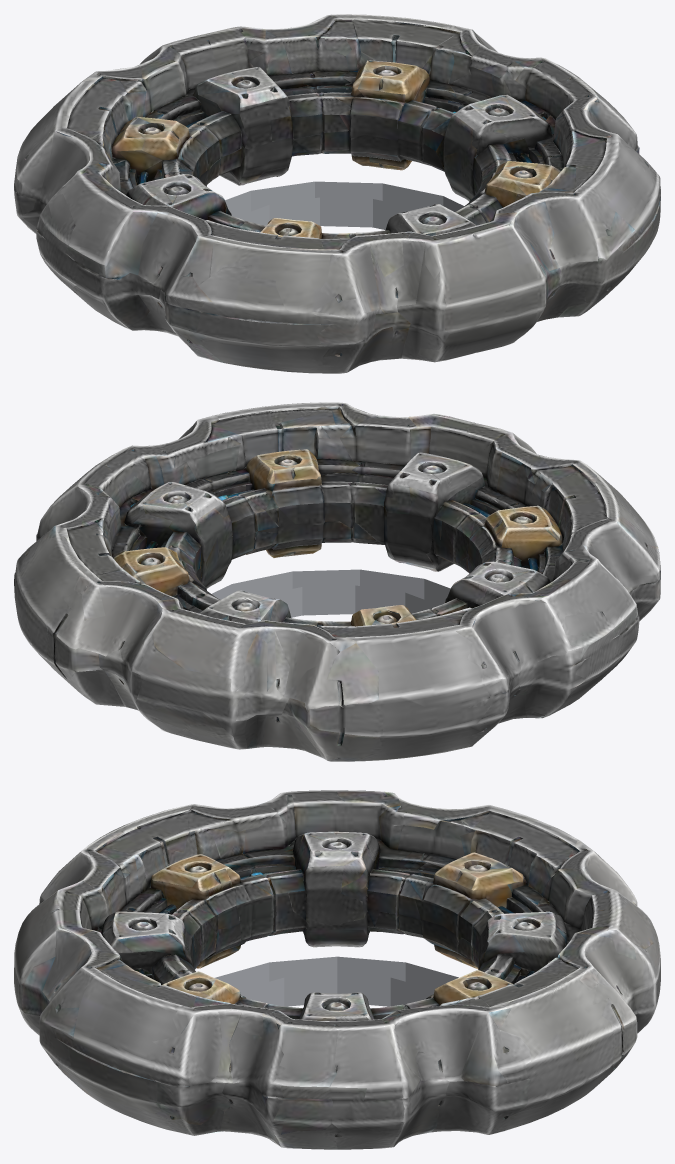
Rendered from ingot.glb.
3 views of the same model, one above another, from view 1: azimuth 30°, elevation 25°; view 2: azimuth 150°, elevation 25°; view 3: azimuth 270°, elevation 25° (orthographic). The views are drawn at different scales.
Visible parts, largest first — view 1: mesh_node; view 2: mesh_node; view 3: mesh_node.
Boxes of the visible parts, x1=… form: mesh_node: x1=14, y1=14, x2=660, y2=373; mesh_node: x1=14, y1=402, x2=660, y2=761; mesh_node: x1=14, y1=790, x2=660, y2=1149.
Bounding box in the file's own units: 39.99 × 10.43 × 40.01.
Materials: 2 (1 with a texture image).
